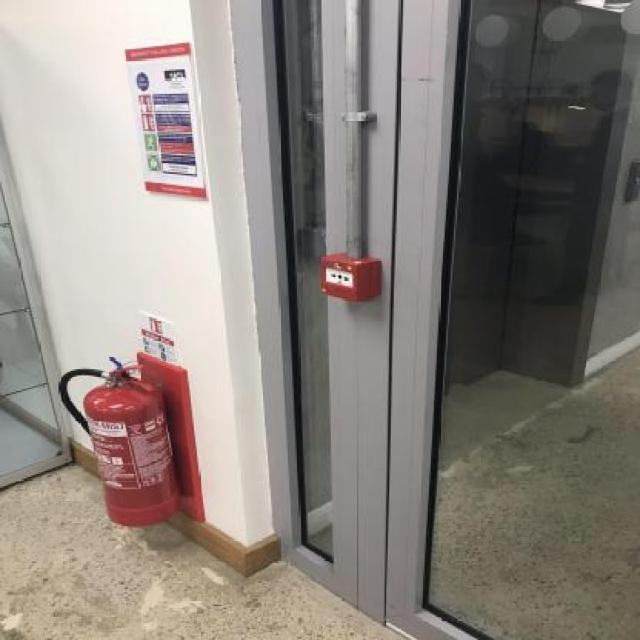fire extinguisher: (61, 364, 184, 530)
